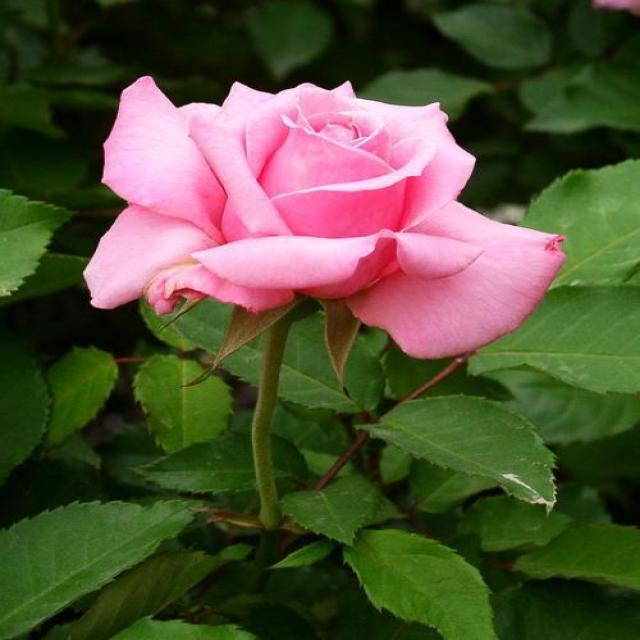rose: (58, 42, 582, 422)
